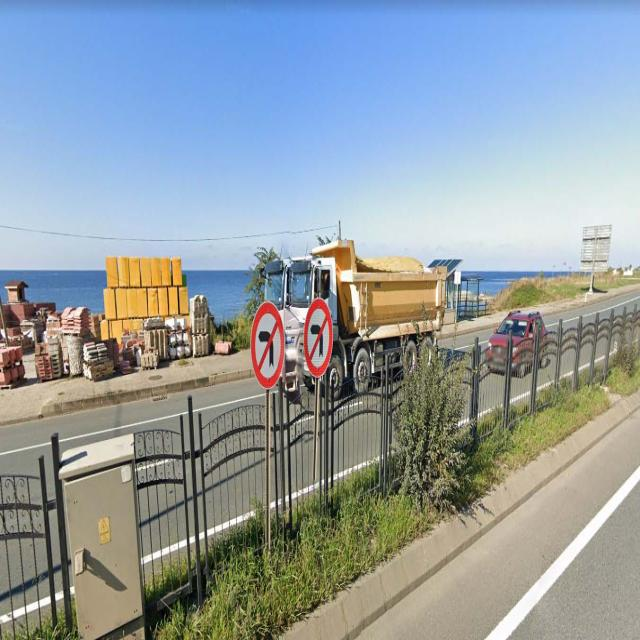soladonulmez: (252, 304, 284, 388), (304, 303, 332, 378)
